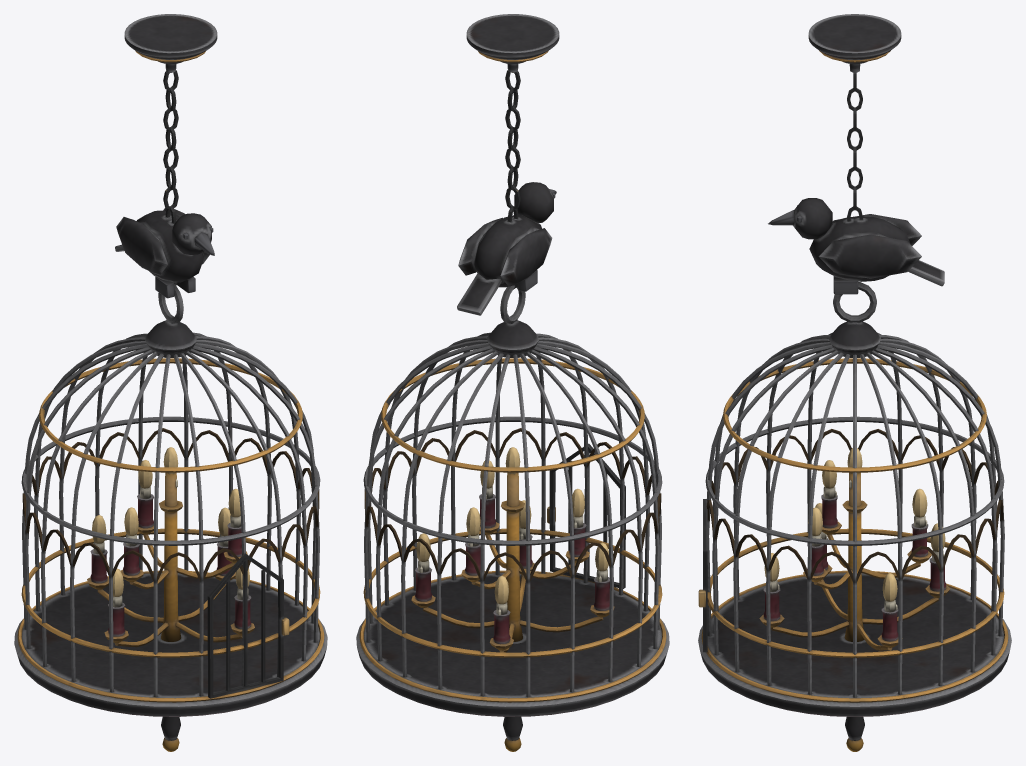
File: ChandelierCage.fbx
The picture shows the model from 3 angles, left to right: view 1: azimuth 30°, elevation 25°; view 2: azimuth 150°, elevation 25°; view 3: azimuth 270°, elevation 25°; orthographic projection.
Visible parts, largest first — view 1: ChandelierCage_Main, ChandelierCage_Glow; view 2: ChandelierCage_Main, ChandelierCage_Glow; view 3: ChandelierCage_Main, ChandelierCage_Glow.
Boxes of the visible parts, box(x1,y1,x2,y2) form: ChandelierCage_Main: box(14, 14, 327, 751); ChandelierCage_Glow: box(92, 447, 249, 596); ChandelierCage_Main: box(356, 14, 669, 751); ChandelierCage_Glow: box(416, 447, 608, 604); ChandelierCage_Main: box(698, 14, 1011, 751); ChandelierCage_Glow: box(764, 448, 945, 601).
Bounding box in the file's own units: 216 × 545 × 216.
